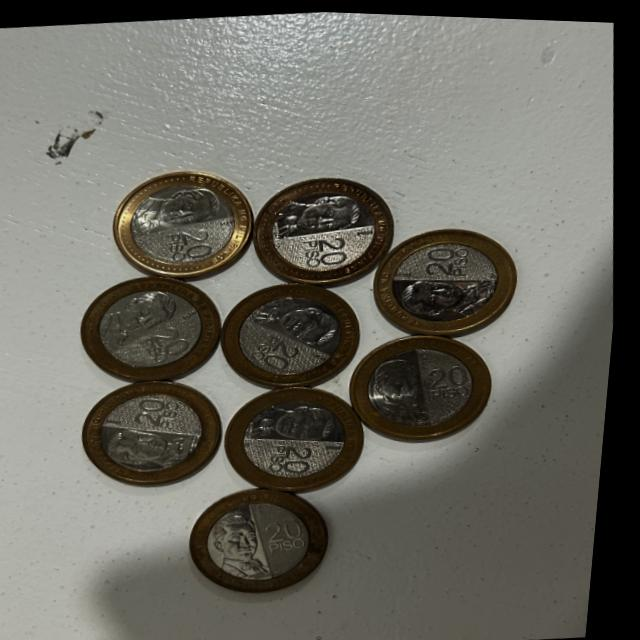20_New_Front: (262, 507, 326, 571), (240, 318, 313, 374), (292, 222, 373, 272), (424, 347, 485, 409), (155, 218, 229, 269), (417, 230, 480, 284), (266, 431, 337, 473), (149, 317, 211, 364), (129, 387, 193, 432)
